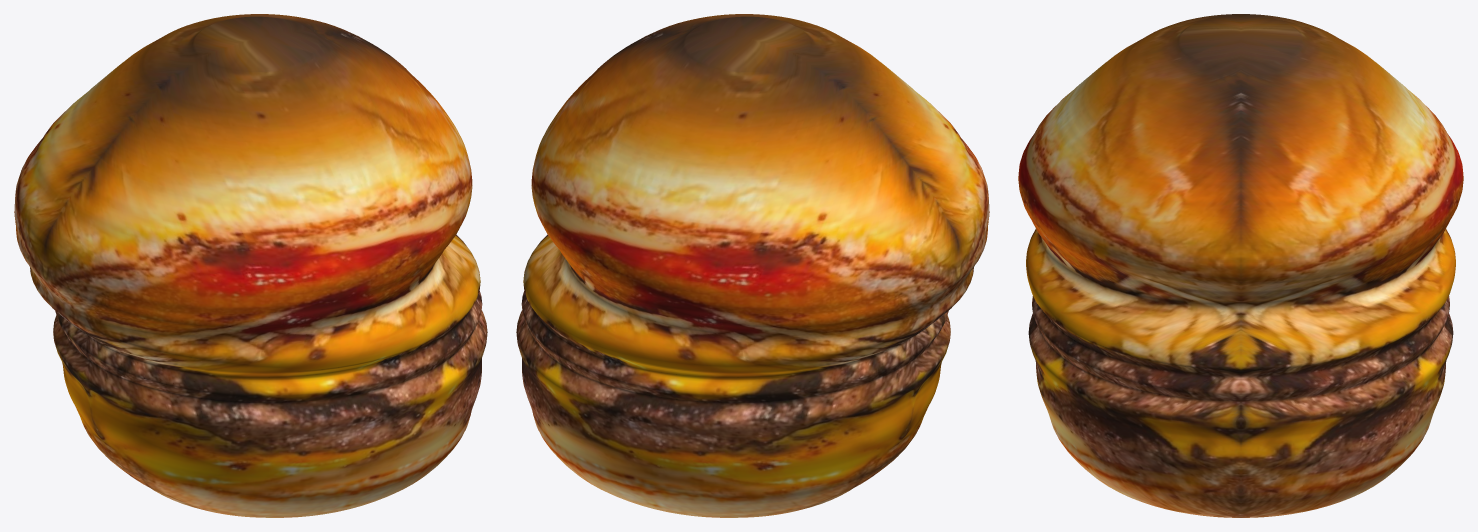
The model's file is burguer-de-la-casa-3d.glb.
3 renders of one model, left to right at view 1: azimuth 30°, elevation 25°; view 2: azimuth 150°, elevation 25°; view 3: azimuth 270°, elevation 25°, orthographic. The views are drawn at different scales.
Visible parts, largest first — view 1: burguer-de-la-casa; view 2: burguer-de-la-casa; view 3: burguer-de-la-casa.
Part boxes in pixels (x1=…): burguer-de-la-casa: x1=14, y1=14, x2=487, y2=517; burguer-de-la-casa: x1=516, y1=14, x2=989, y2=517; burguer-de-la-casa: x1=1018, y1=14, x2=1463, y2=517.
Bounding box in the file's own units: 0.126 × 0.1292 × 0.12.
1 material, 1 textured.
